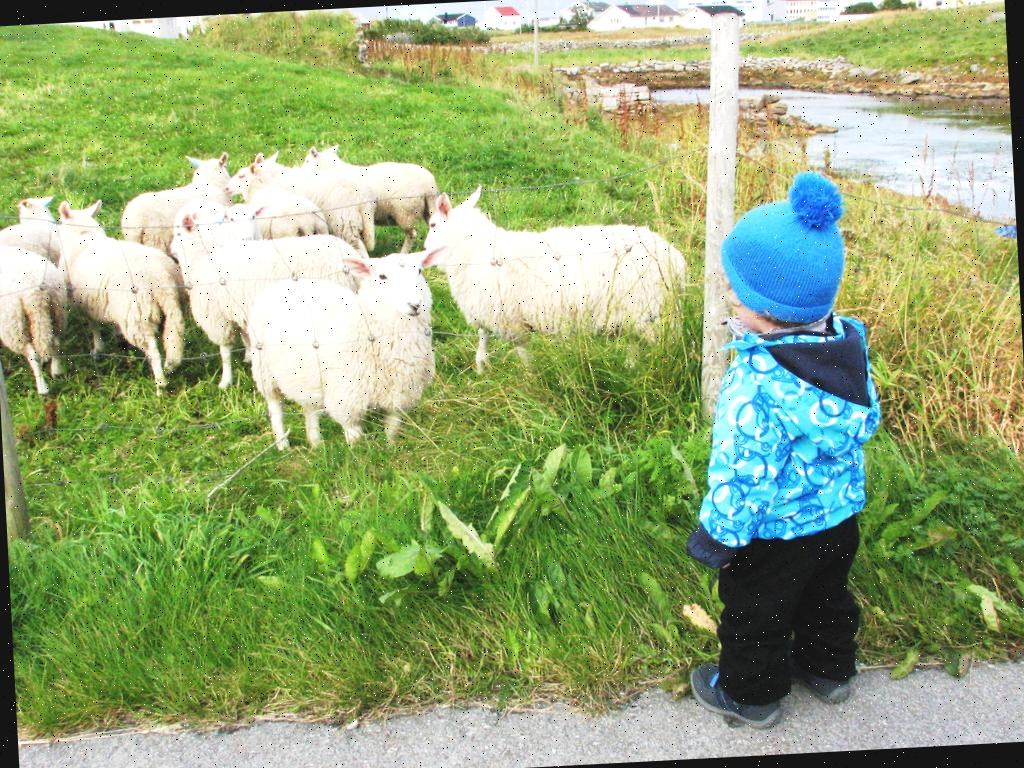Sheep: (420, 174, 707, 385), (230, 224, 440, 464), (161, 190, 379, 376), (55, 182, 202, 380), (300, 134, 448, 238), (248, 138, 382, 250), (0, 198, 62, 429), (100, 145, 234, 236), (224, 160, 344, 254)
